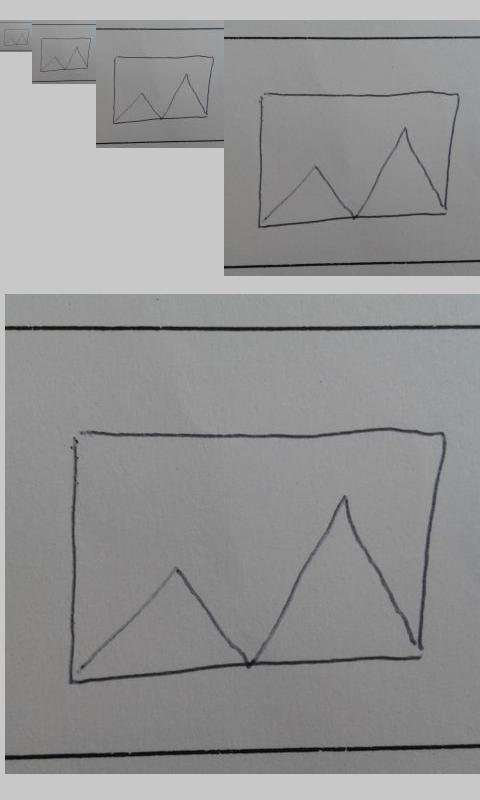image_view: (63, 424, 448, 686), (256, 87, 459, 234), (111, 54, 215, 126), (39, 37, 93, 73), (3, 28, 30, 46)
